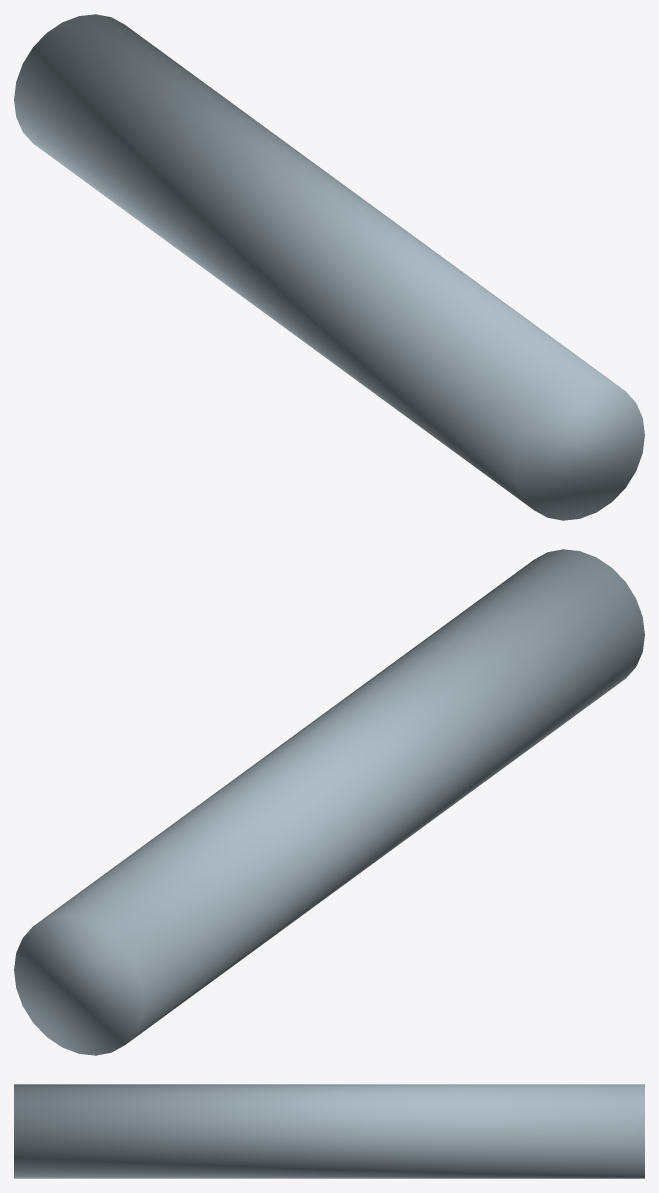
File: QA_fit_pin.fbx
3 renders of one model, top to bottom at view 1: azimuth 30°, elevation 25°; view 2: azimuth 150°, elevation 25°; view 3: azimuth 270°, elevation 25°, orthographic. The views are drawn at different scales.
Parts seen in each view (by area): view 1: VLAB_bearing_QAFitPin_VIS; view 2: VLAB_bearing_QAFitPin_VIS; view 3: VLAB_bearing_QAFitPin_VIS.
Boxes of the visible parts, x1,y1,x2,y2 form: VLAB_bearing_QAFitPin_VIS: [14, 14, 644, 520]; VLAB_bearing_QAFitPin_VIS: [14, 549, 644, 1055]; VLAB_bearing_QAFitPin_VIS: [14, 1084, 644, 1178].
Bounding box in the file's own units: 0.6 × 0.6 × 4.
